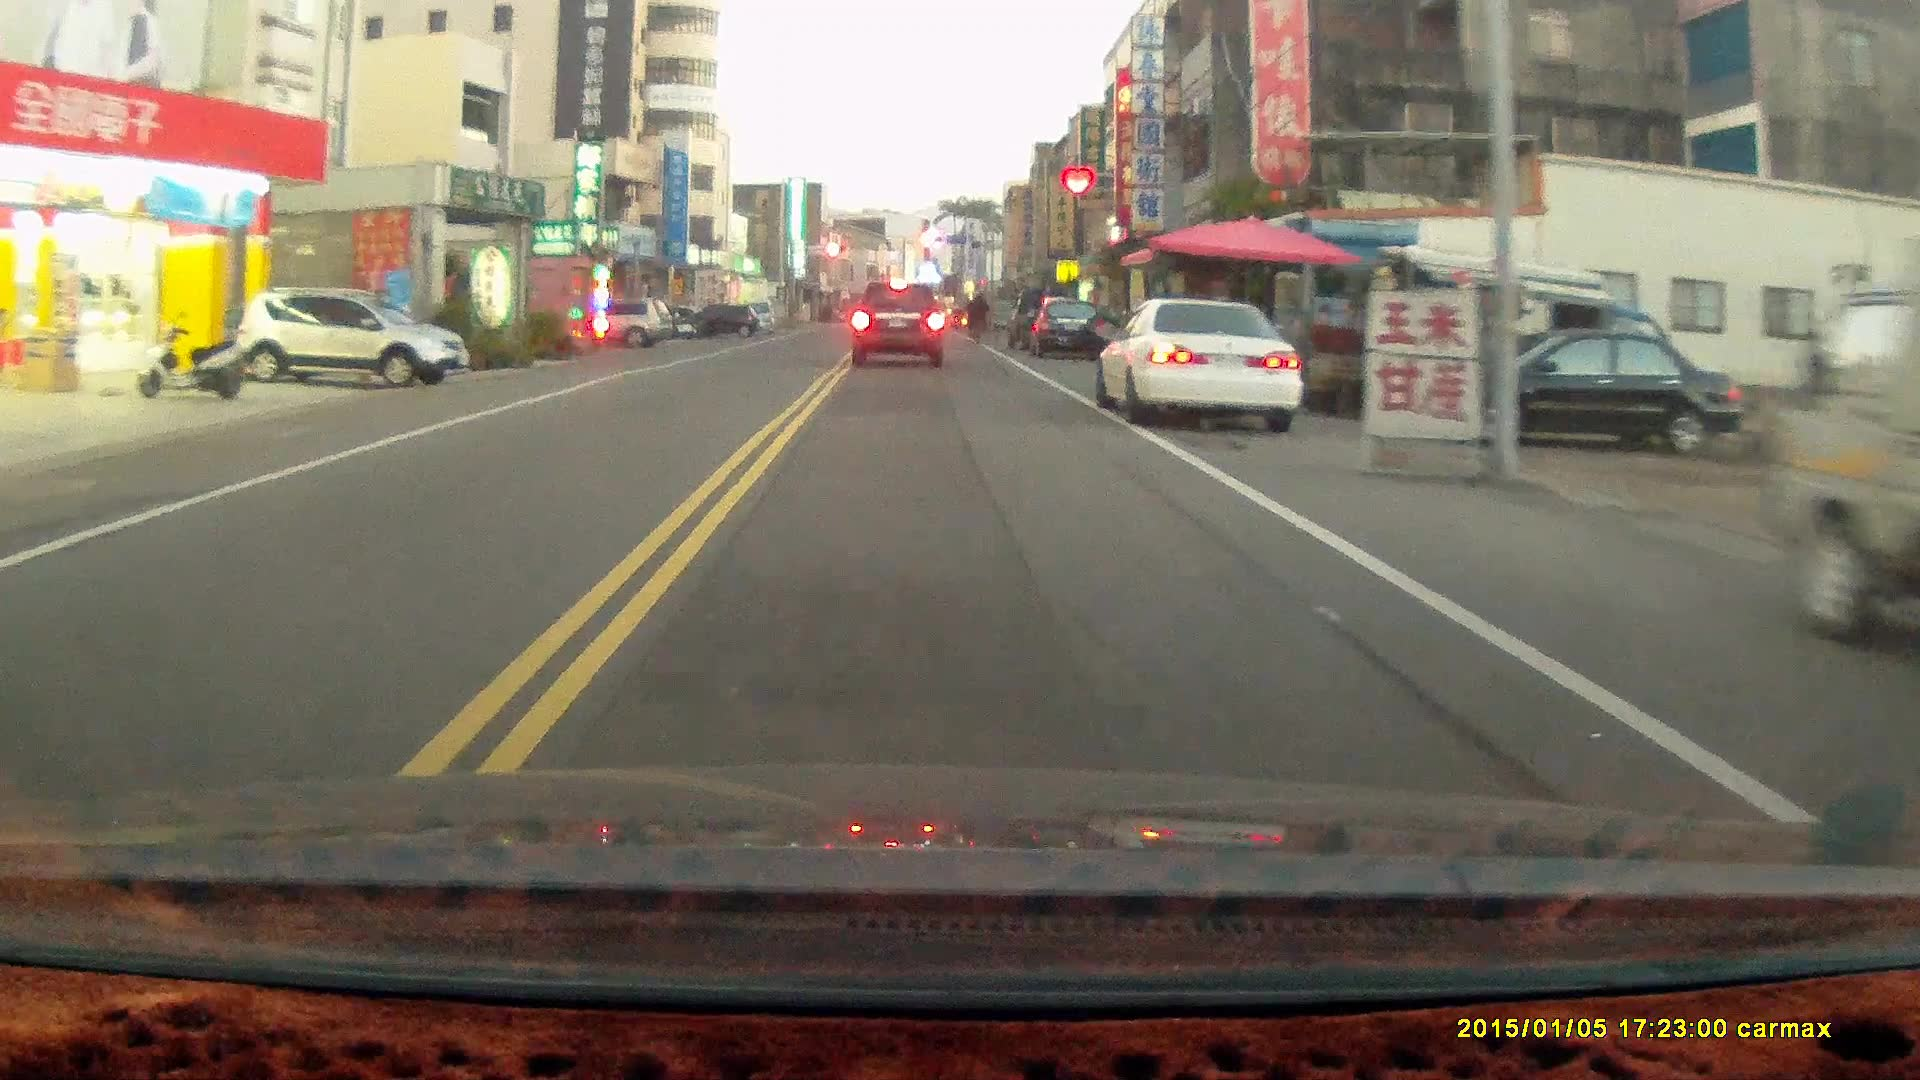rider: (966, 288, 989, 343)
vehicle: (1775, 218, 1920, 650), (1393, 324, 1743, 459), (1102, 299, 1304, 432), (232, 286, 468, 388), (849, 282, 950, 372), (576, 299, 676, 350), (1033, 297, 1106, 362)
